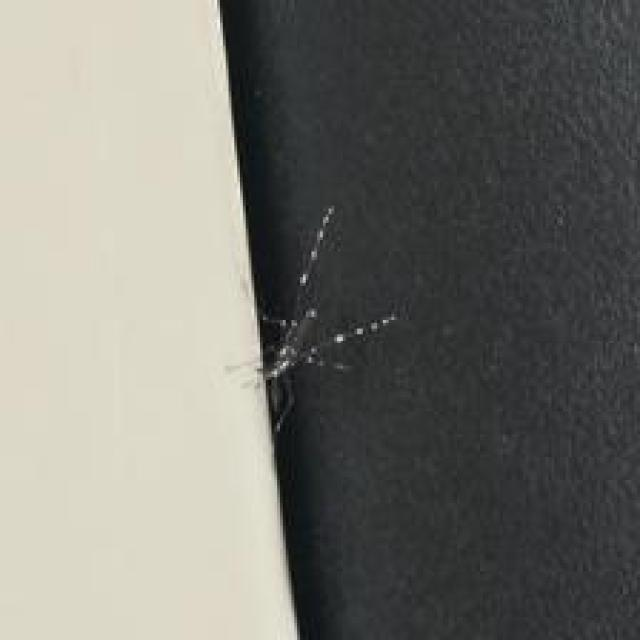Aedes albopictus: (233, 203, 404, 434)
